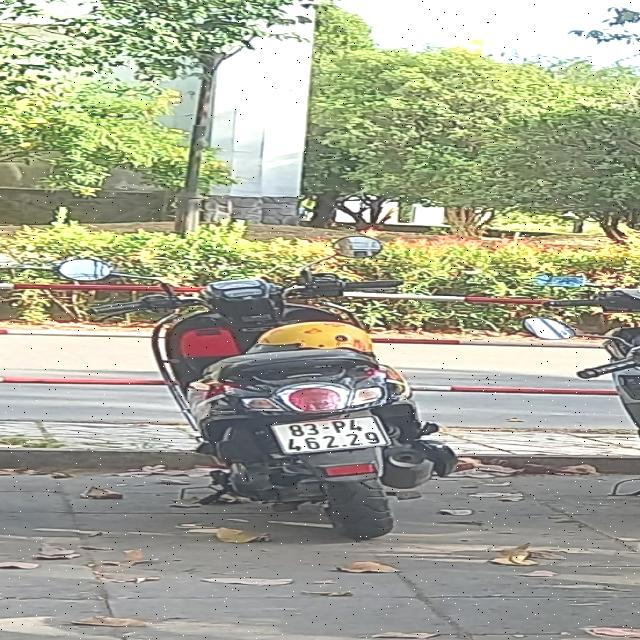2: (321, 435, 341, 448), (345, 433, 364, 446)
3: (303, 423, 321, 436)
4: (286, 438, 302, 452), (349, 419, 365, 432)
6: (304, 437, 321, 450)
8: (288, 425, 306, 437)
9: (364, 432, 380, 444)
P: (330, 421, 347, 434)
